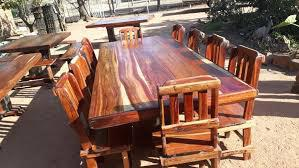wood: (83, 34, 257, 132), (1, 51, 41, 99), (4, 32, 72, 51), (85, 16, 151, 29)
